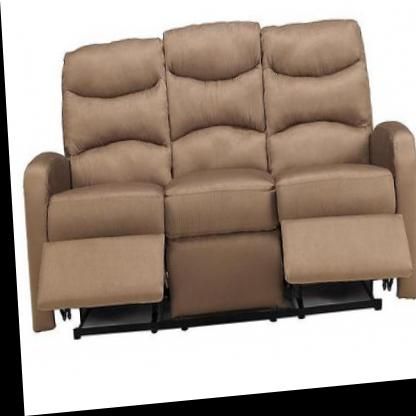Sofa: (15, 11, 416, 354)
